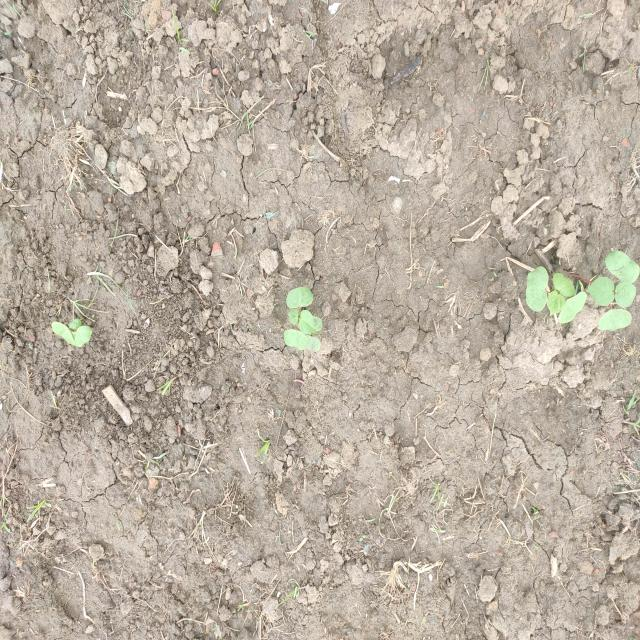seedling_s4: (605, 251, 640, 283), (526, 267, 549, 312), (558, 291, 587, 323), (586, 277, 614, 306), (598, 309, 632, 331), (51, 321, 75, 346), (286, 287, 313, 308), (283, 329, 308, 351), (614, 282, 636, 307), (553, 273, 575, 297), (546, 291, 565, 316), (71, 326, 92, 347), (298, 310, 315, 334), (306, 336, 320, 351), (287, 308, 298, 325), (69, 318, 82, 330), (313, 316, 322, 331)
